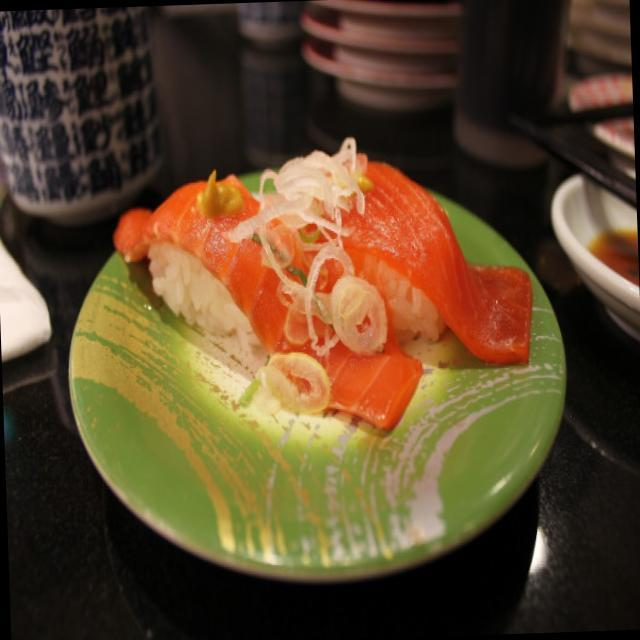Sushi: (103, 134, 535, 428)
